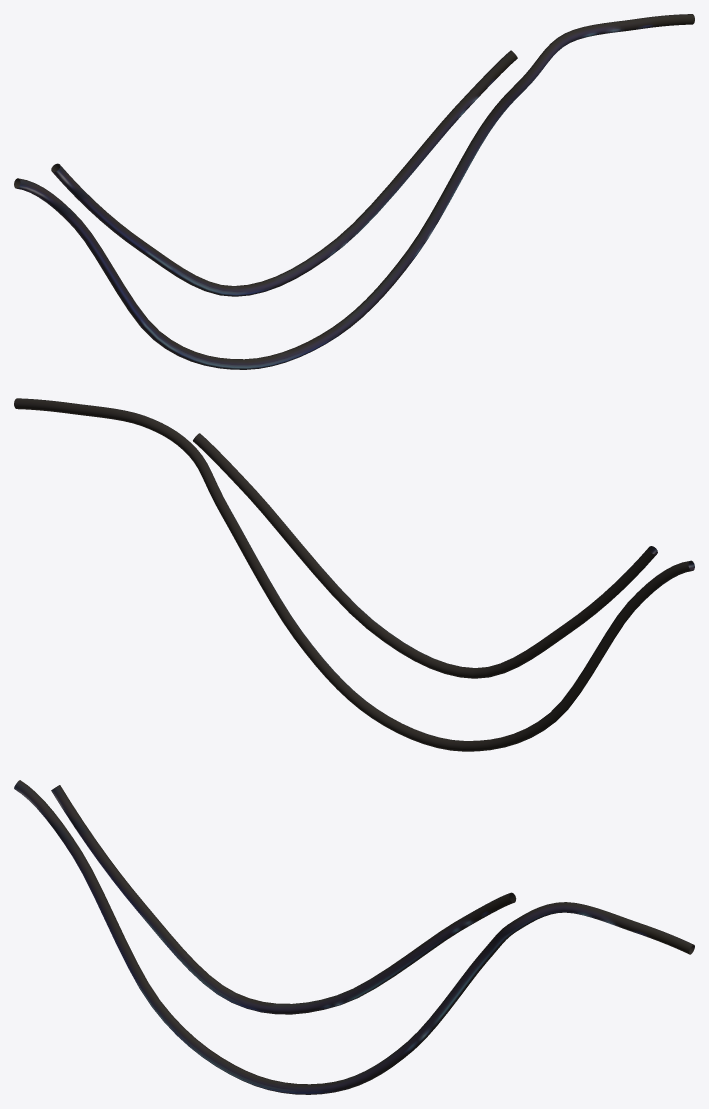
Rendered from Julebu_Xian3_fbx.FBX.
3 renders of one model, top to bottom at view 1: azimuth 30°, elevation 25°; view 2: azimuth 150°, elevation 25°; view 3: azimuth 330°, elevation 25°, orthographic.
Parts seen in each view (by area): view 1: Line006; view 2: Line006; view 3: Line006.
Boxes of the visible parts, x1,y1,x2,y2 form: Line006: (14,14,694,369); Line006: (14,398,694,751); Line006: (14,780,694,1094).
Bounding box in the file's own units: 4.33 × 1.6 × 0.135.
